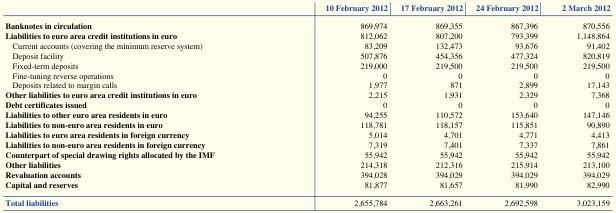table: (4, 3, 609, 207)
table column: (4, 3, 269, 207), (269, 3, 393, 207), (468, 3, 549, 207), (393, 3, 468, 207), (549, 3, 609, 207)
table column header: (4, 3, 609, 16)
table row: (4, 16, 609, 30), (4, 179, 609, 193), (4, 193, 609, 207), (4, 3, 609, 16), (4, 30, 609, 40), (4, 40, 609, 50), (4, 50, 609, 60), (4, 60, 609, 70), (4, 70, 609, 80), (4, 80, 609, 90), (4, 90, 609, 100), (4, 100, 609, 110), (4, 110, 609, 120), (4, 120, 609, 130), (4, 130, 609, 140), (4, 149, 609, 159), (4, 159, 609, 169), (4, 169, 609, 179), (4, 140, 609, 149)
